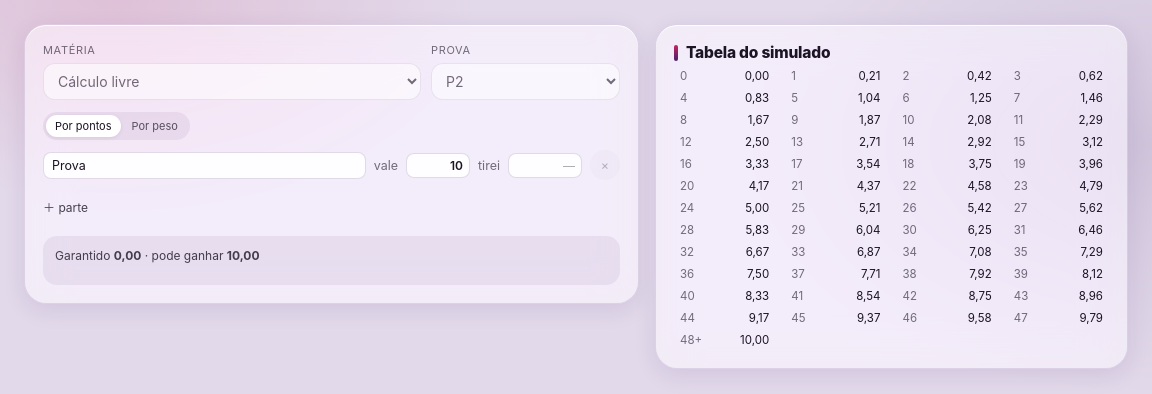
Calculadora page › validation message flags a sum different from 10 but still shows results
Replace the text in the field named "Vale da parte 1" with "8,5" at (438, 165), box 406,152 -> 470,178
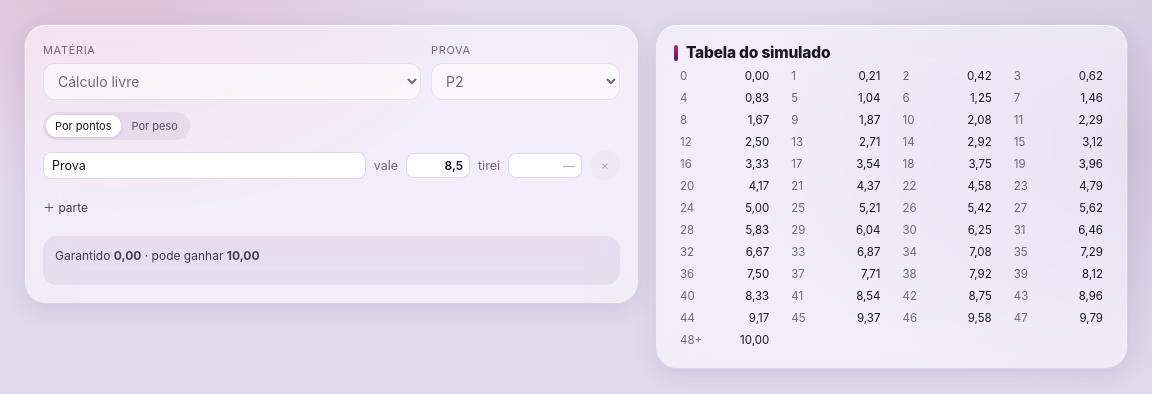
Leave the field named "Vale da parte 1", box 406,152 -> 470,178
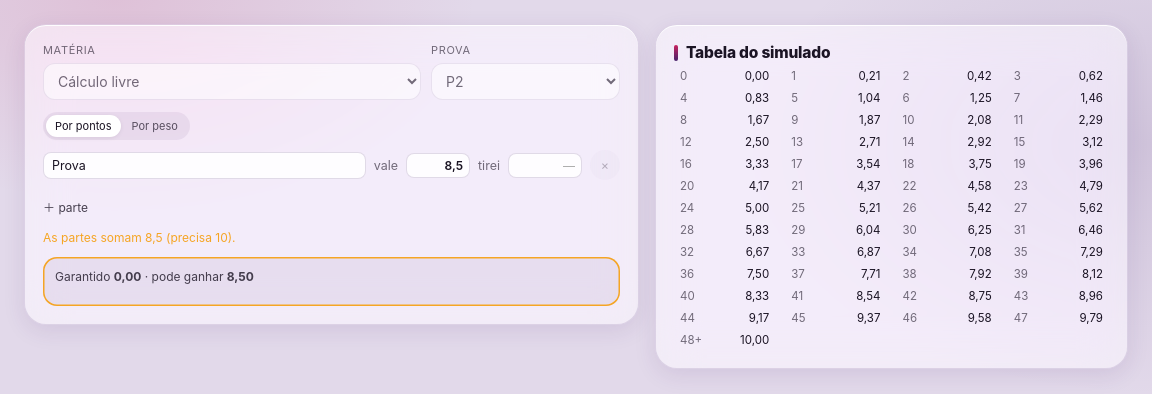
Expected: the message reads "As partes somam 8,5 (precisa 10).", 43,230 -> 236,245
Expected: the element with class "result" shows "pode ganhar 8,50", 43,257 -> 620,306
Click the button "＋ parte" at (66, 206), box 43,188 -> 88,224
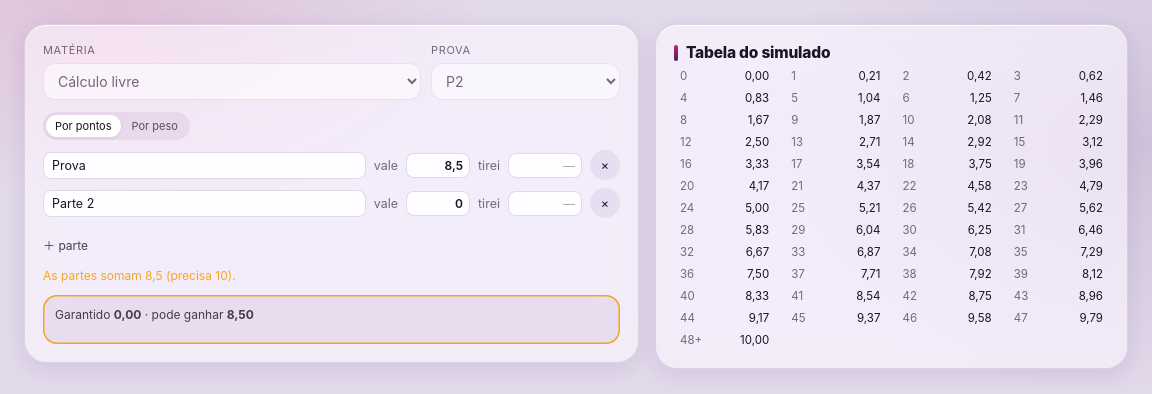
Replace the text in the field named "Vale da parte 2" with "1,5" at (438, 203), box 406,190 -> 470,216
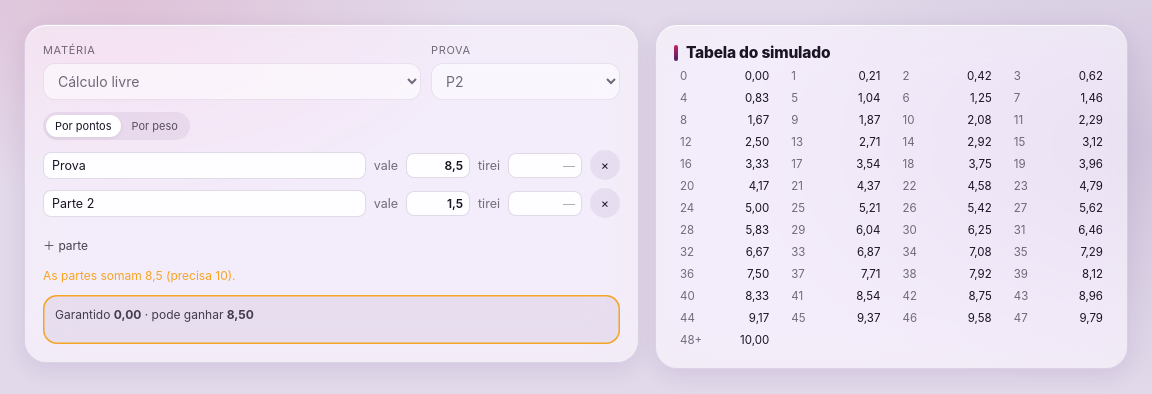
Leave the field named "Vale da parte 2", box 406,190 -> 470,216
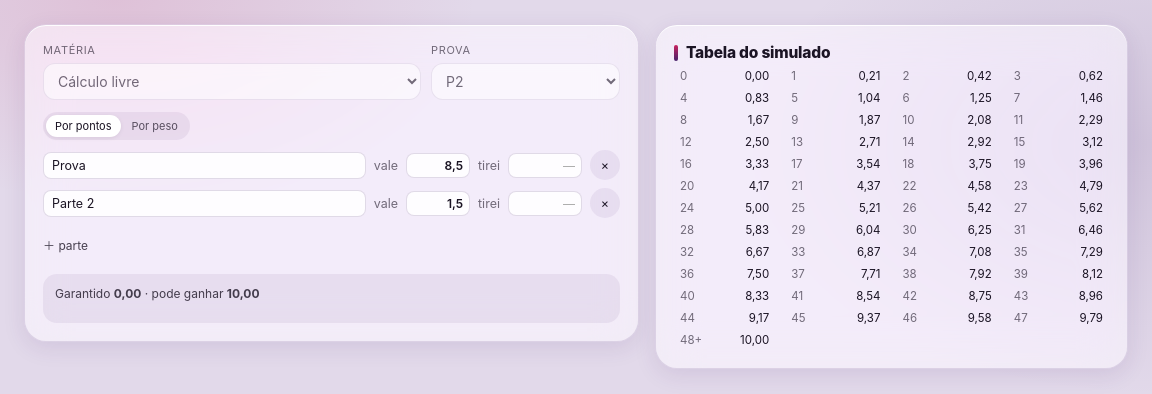
Expected: the message "As partes somam 8,5 (precisa 10)." is gone
